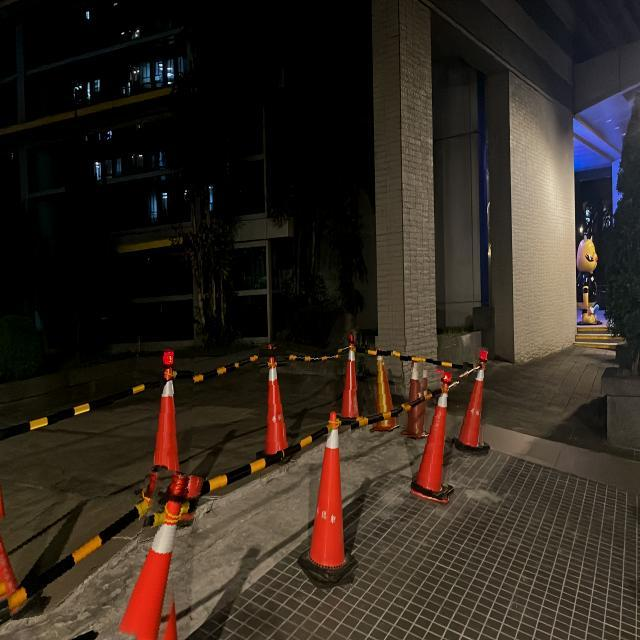traffic cone: (298, 411, 357, 587), (410, 378, 454, 505), (452, 362, 490, 454), (257, 357, 290, 459), (152, 376, 182, 475), (336, 342, 367, 422), (400, 359, 430, 440), (370, 354, 400, 432), (154, 600, 186, 640), (160, 600, 181, 640)
